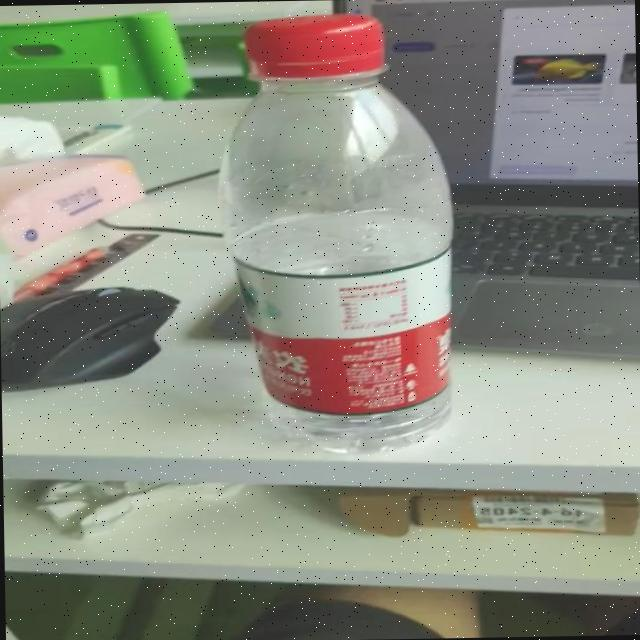bottle: (212, 11, 459, 463)
cap: (244, 14, 396, 82)
label: (223, 246, 465, 414)
